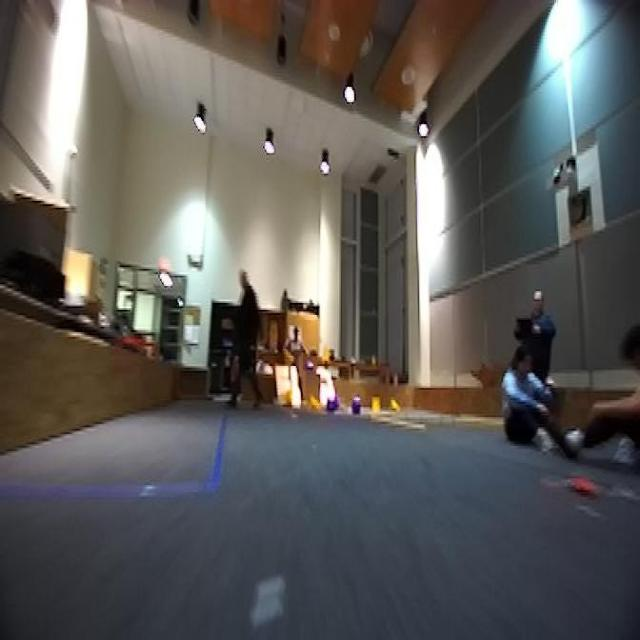frc_cone: (306, 395, 322, 415), (388, 398, 403, 417), (370, 395, 381, 419), (285, 349, 297, 368), (321, 342, 331, 364)
frc_cube: (349, 395, 363, 417), (304, 356, 316, 374), (326, 397, 336, 415)
